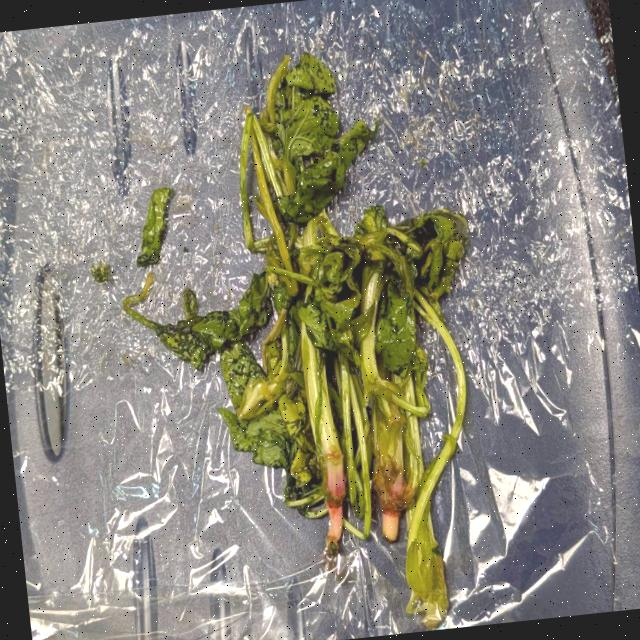rotten spinach: (49, 7, 557, 640), (212, 26, 496, 628), (78, 141, 218, 346)
